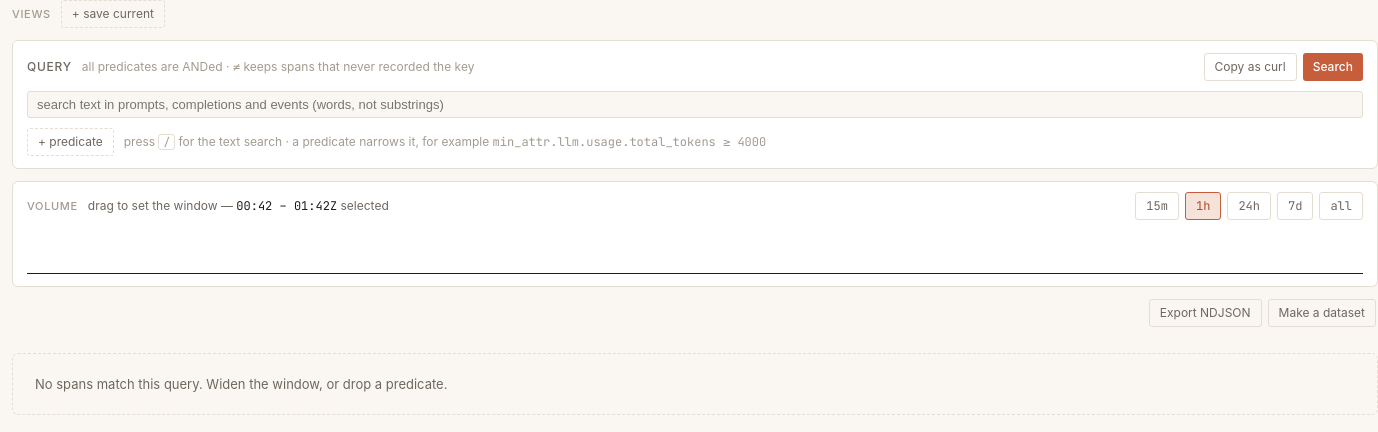
Test: the toolbar globals › asks for a name when saving a view
What coordinates should you click on to do the following:
click the button "+ save current"
I would click on:
 (113, 14)
Its box is [61, 0, 165, 28].
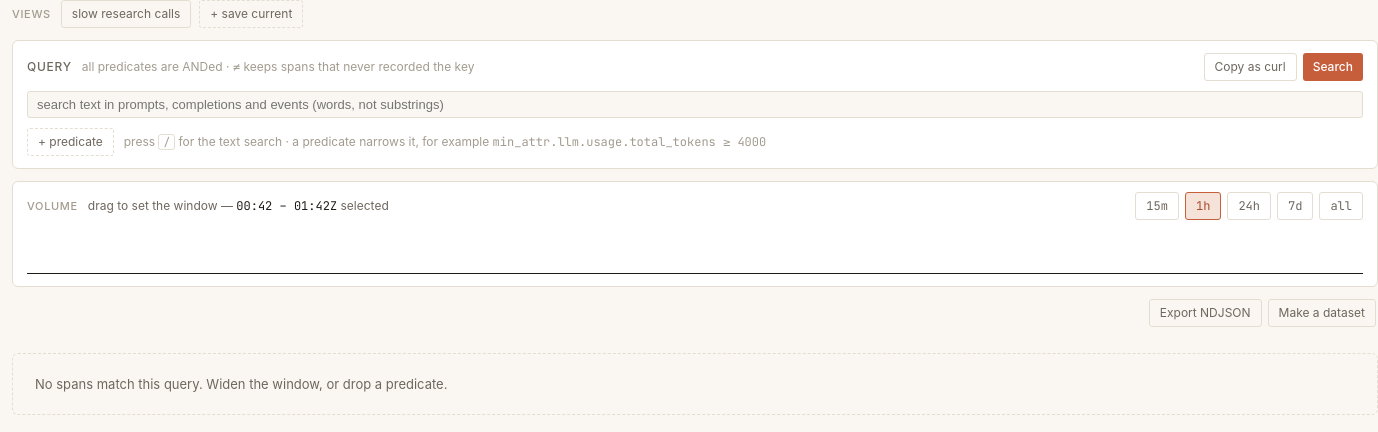
expect the button "slow research calls" is shown: met, box [61, 0, 191, 28]
